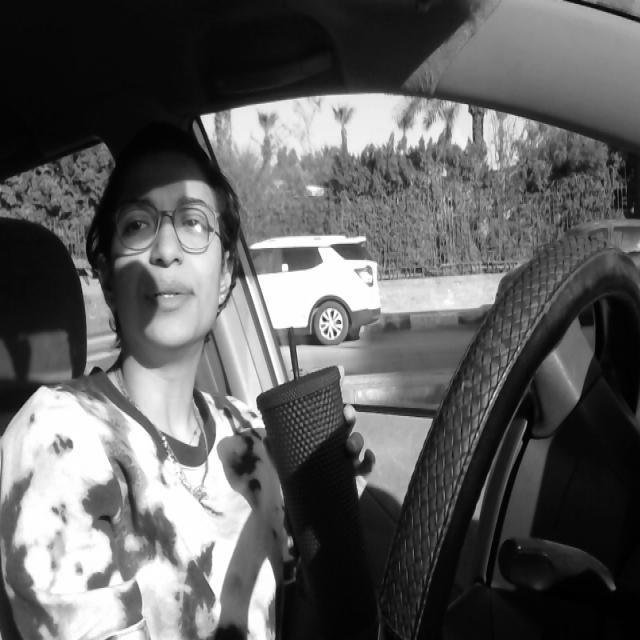Drinking: (256, 366, 370, 614)
